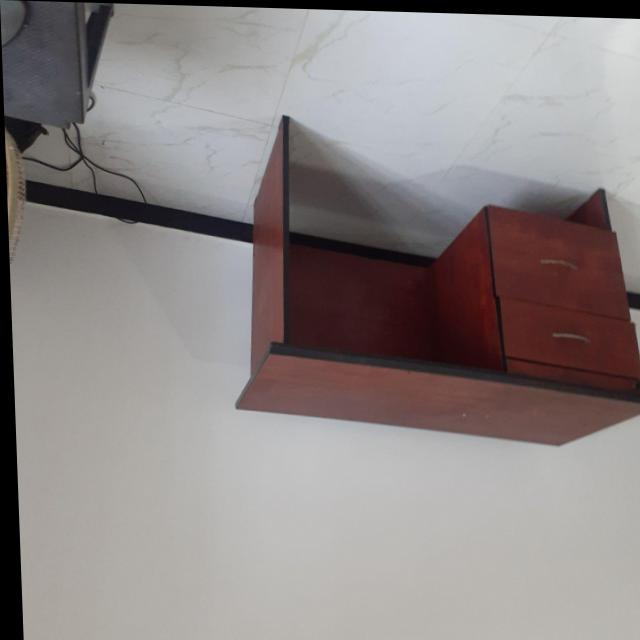Table: (211, 106, 640, 476)
